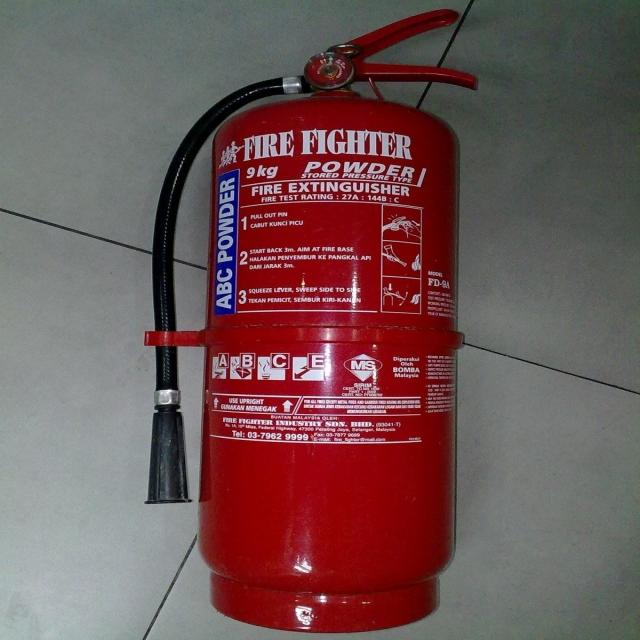fire_extinguisher: (136, 7, 485, 636)
